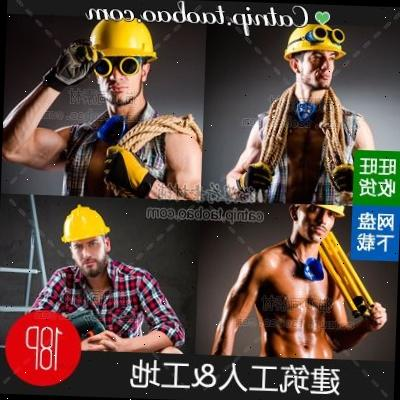helmet: (92, 9, 160, 62), (281, 19, 347, 61), (58, 204, 112, 246), (94, 58, 114, 76)
no_wear: (245, 241, 356, 359), (58, 112, 194, 200), (248, 102, 358, 206), (44, 266, 162, 316)
